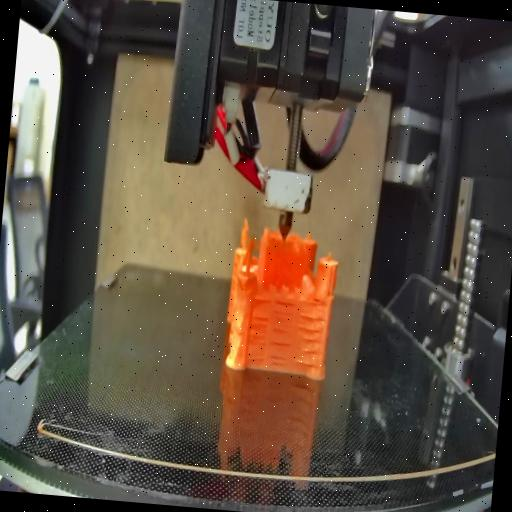cracks: (293, 314, 327, 366), (246, 314, 270, 362), (270, 301, 296, 337), (268, 340, 294, 370), (250, 295, 270, 309), (312, 294, 324, 306)
